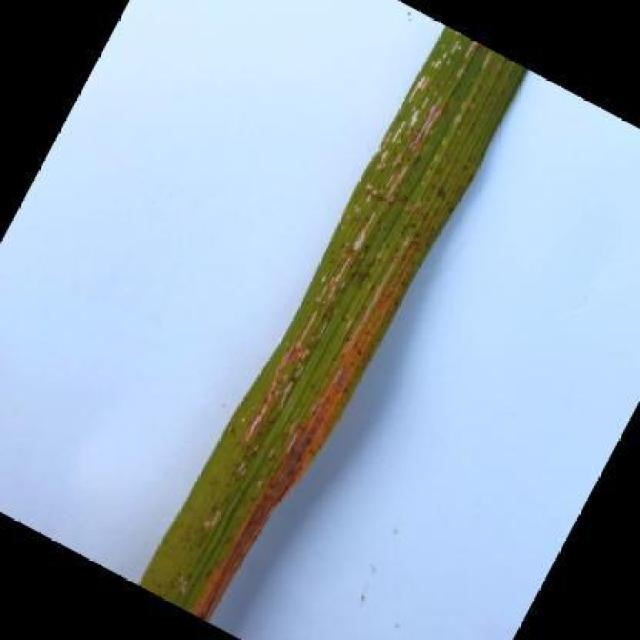Rice False Smut: (130, 18, 535, 637)
